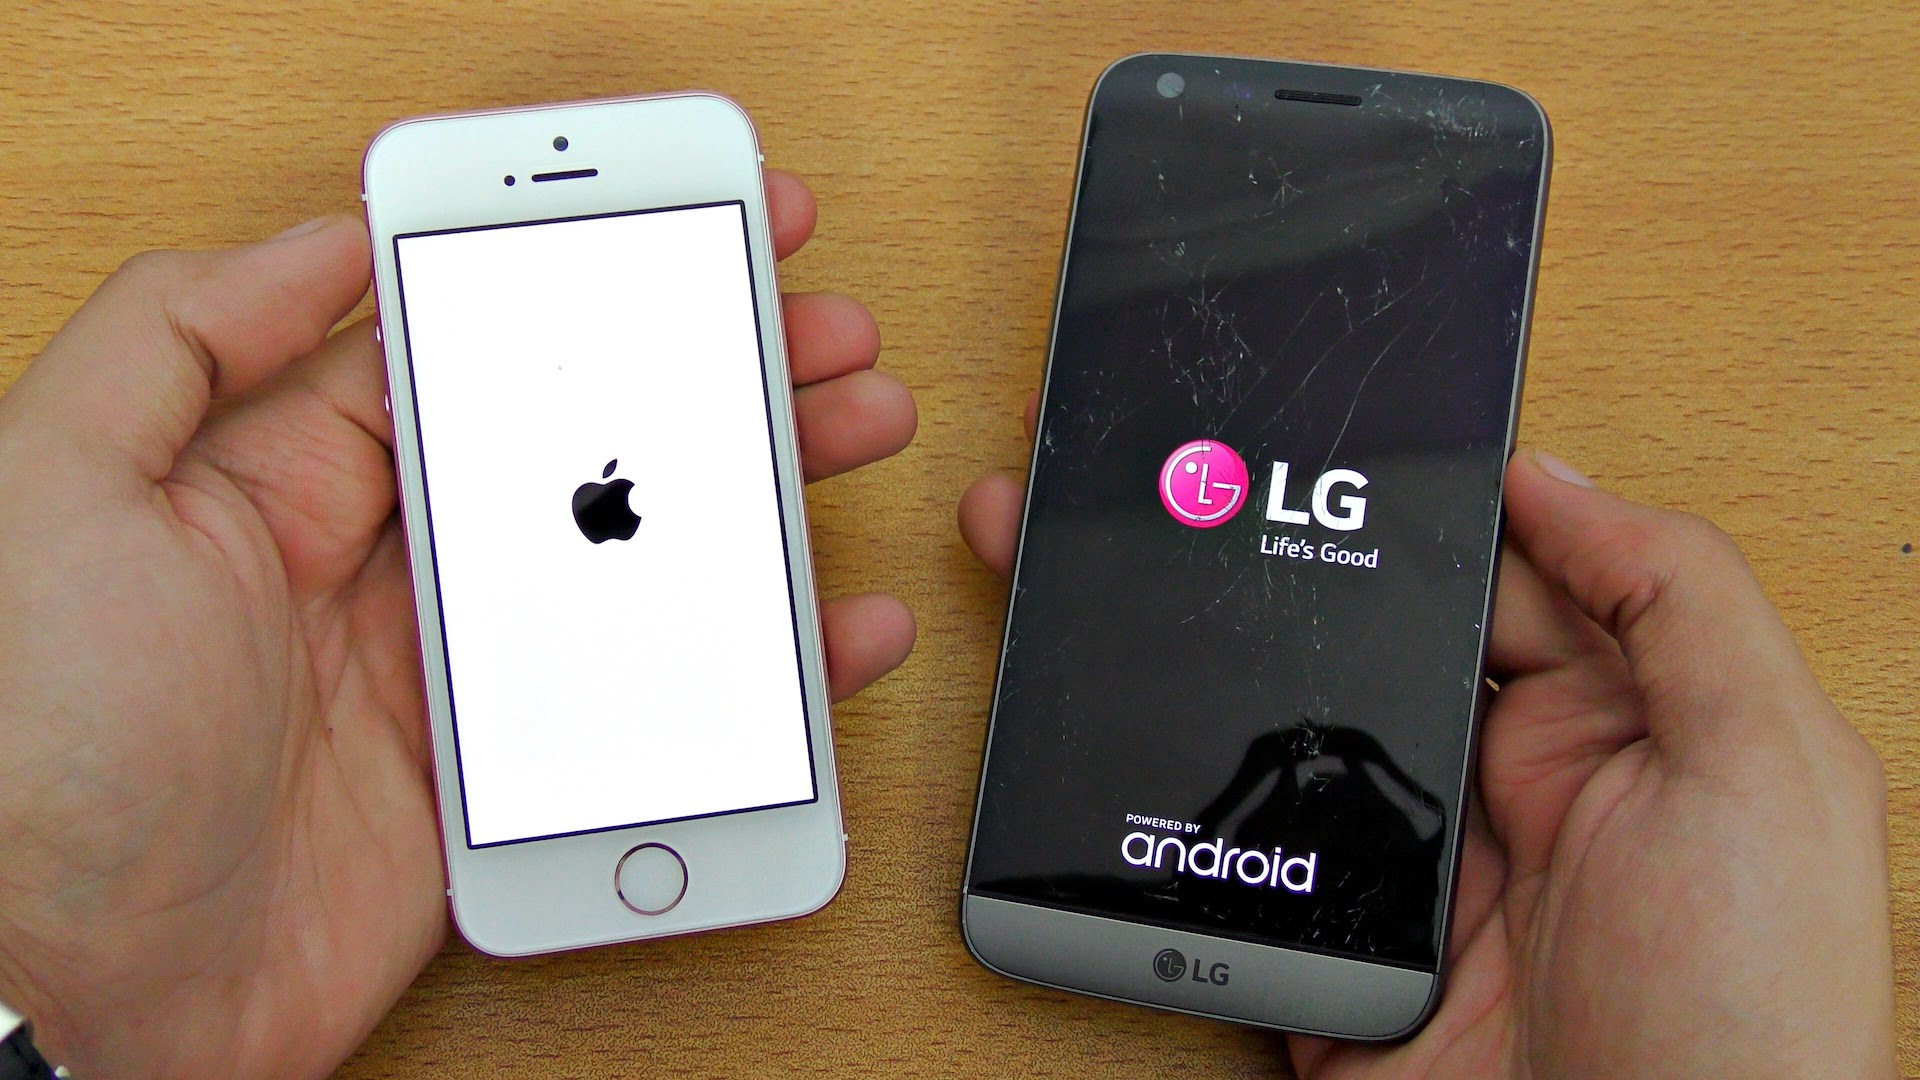smartphone: (956, 47, 1557, 1051), (359, 88, 855, 961)
